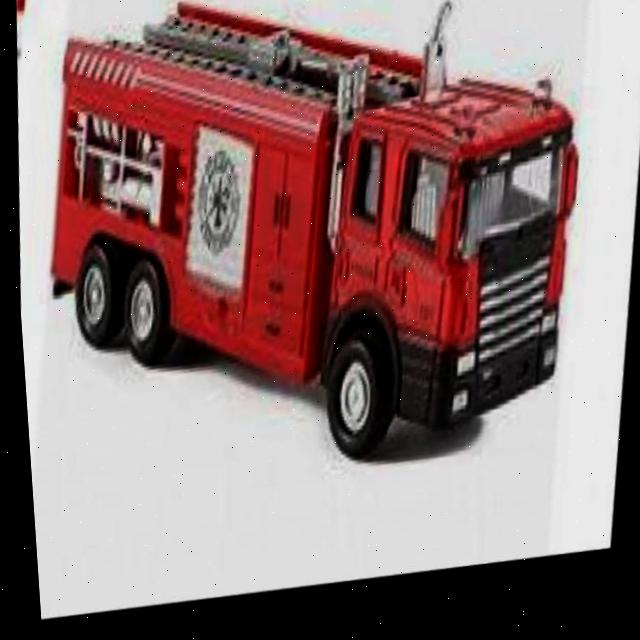emergency: (21, 0, 602, 487)
